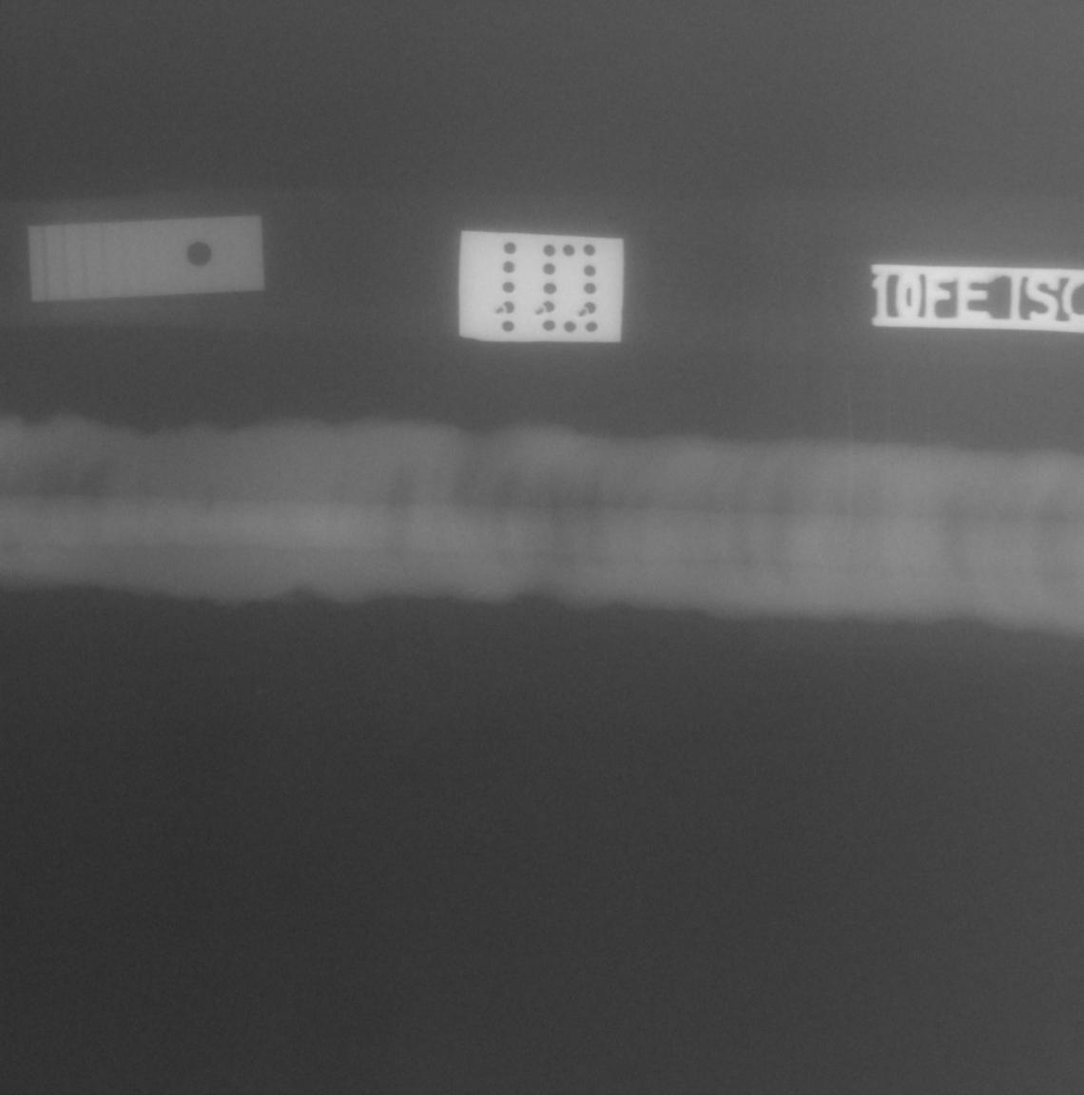Inclusion: (205, 495, 213, 516), (204, 485, 211, 498)
